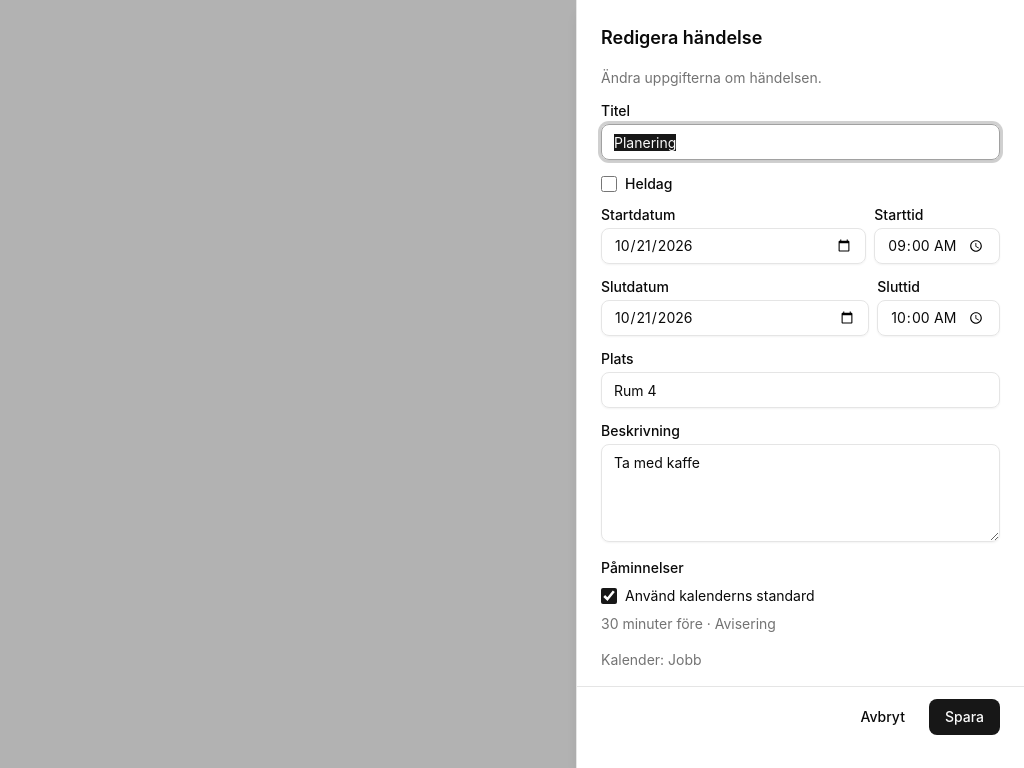
Test case: EventEditPanel › förekomst av en återkommande händelse › stänger bara frågan med Esc, inte panelen
Type "!" into the field labelled "Titel".
click(800, 142); type("!")  # box [601, 124, 1000, 160]
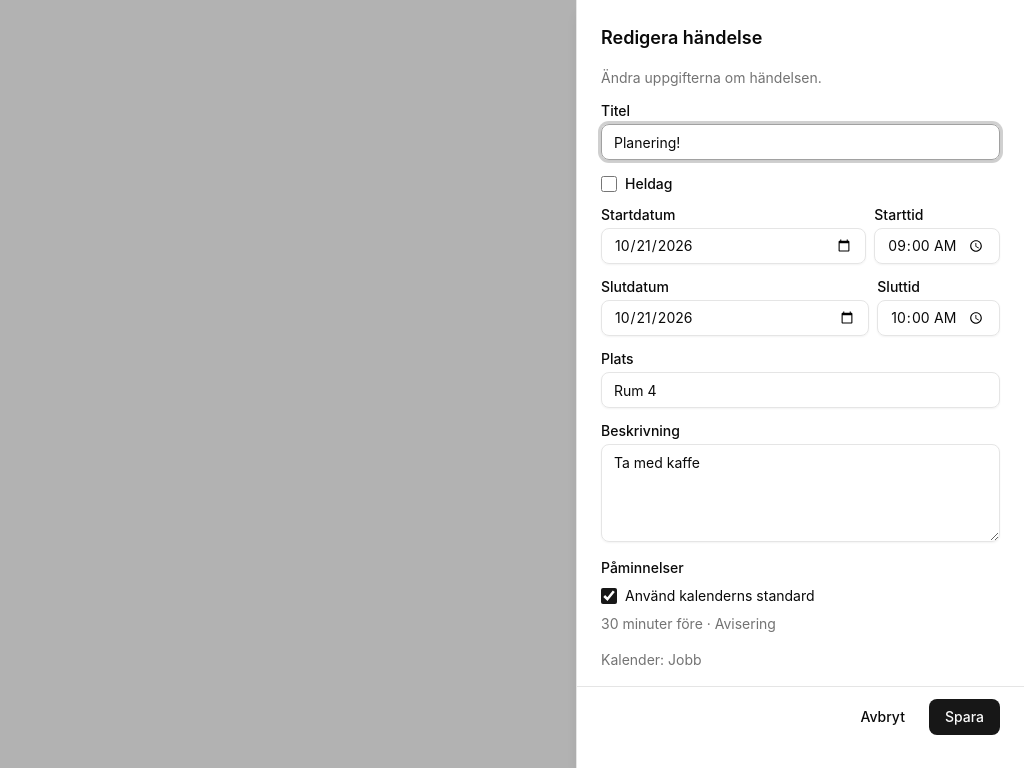
Click the button "Spara".
click(964, 717)  # box [929, 699, 1000, 735]
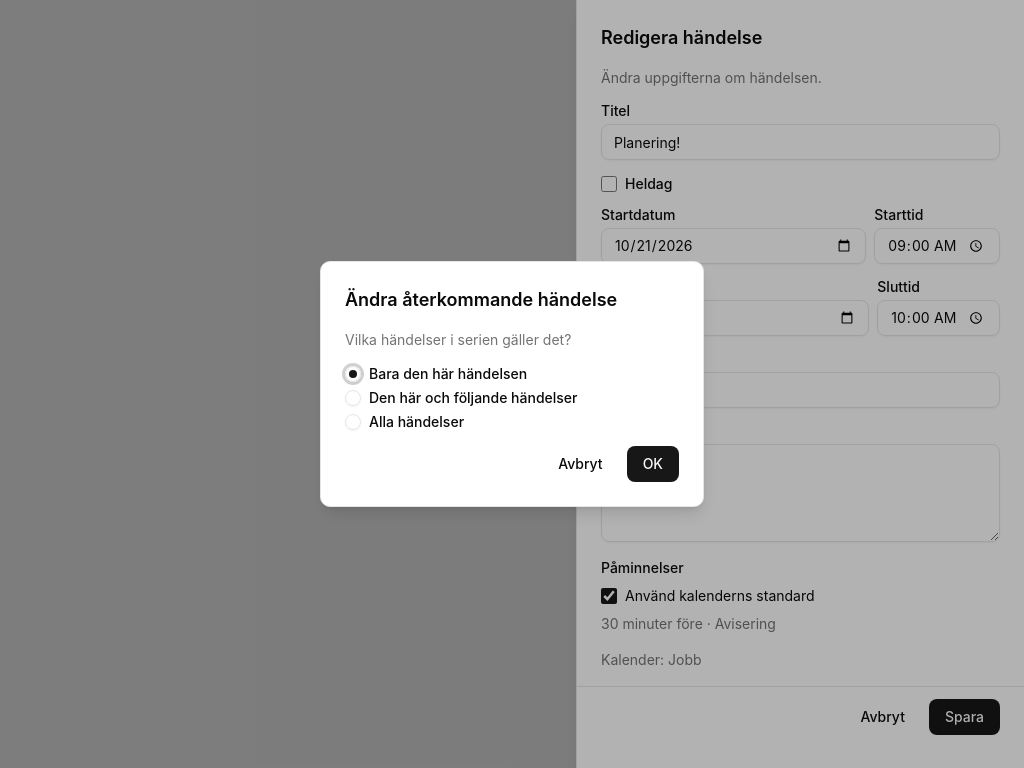
expect the dialog "Ändra återkommande händelse" is shown: met, box [320, 261, 704, 507]
Press Escape
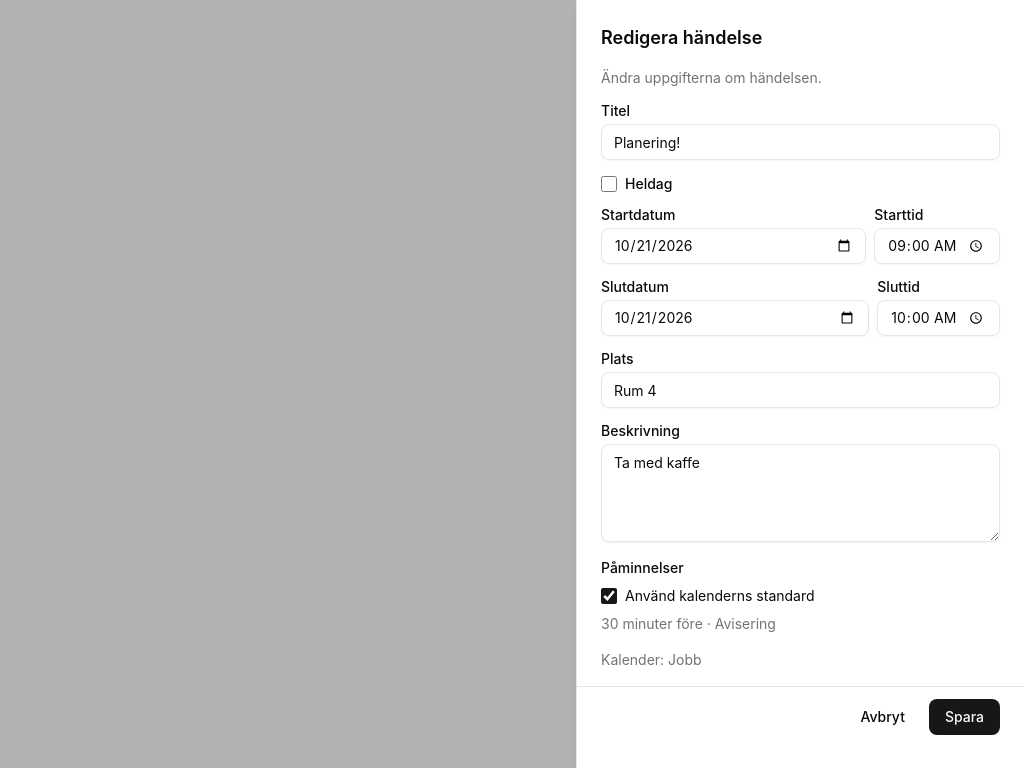
expect the dialog "Redigera händelse" is shown: met, box [576, 0, 1023, 767]
expect the heading "Ändra återkommande händelse" is gone: met
